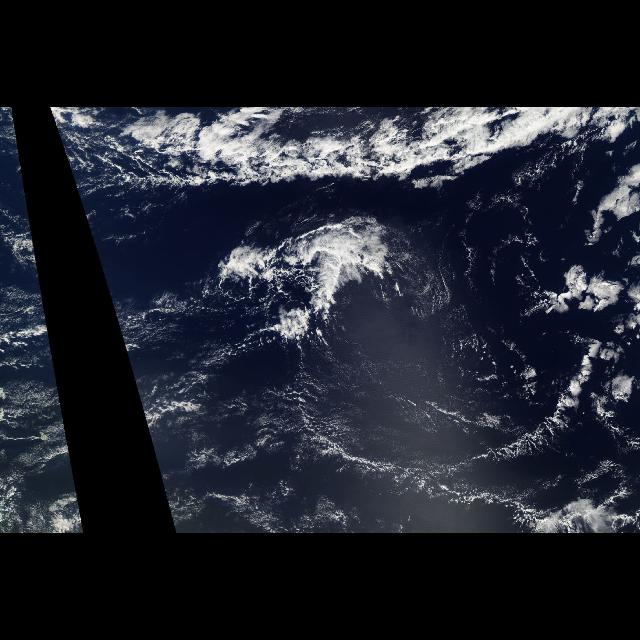Fish: (83, 107, 581, 313)
Sugar: (110, 260, 630, 532)
